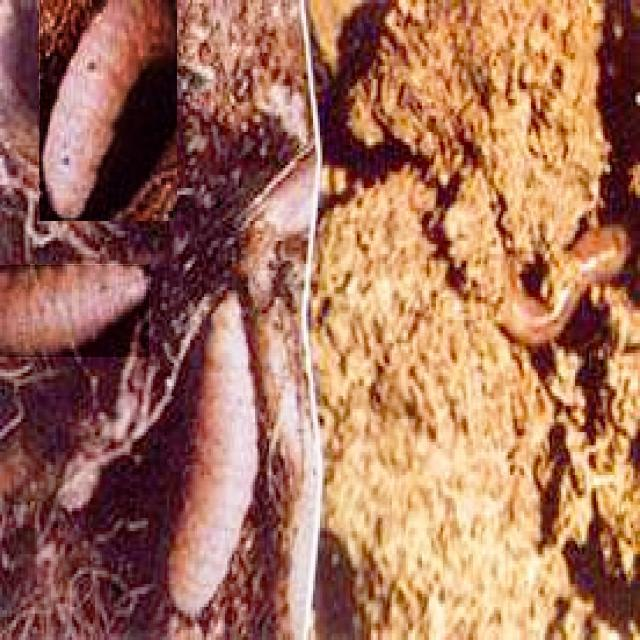whorl-maggot: (166, 297, 260, 620), (40, 0, 177, 221), (0, 265, 149, 357)
